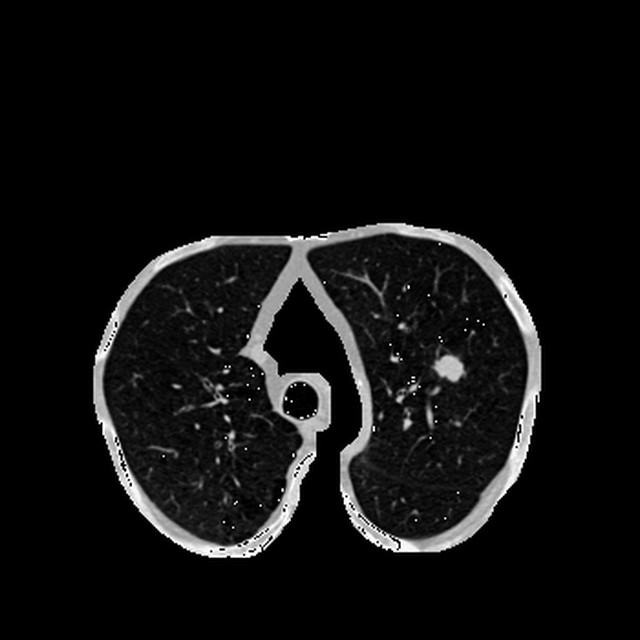PN: (433, 353, 463, 382)
